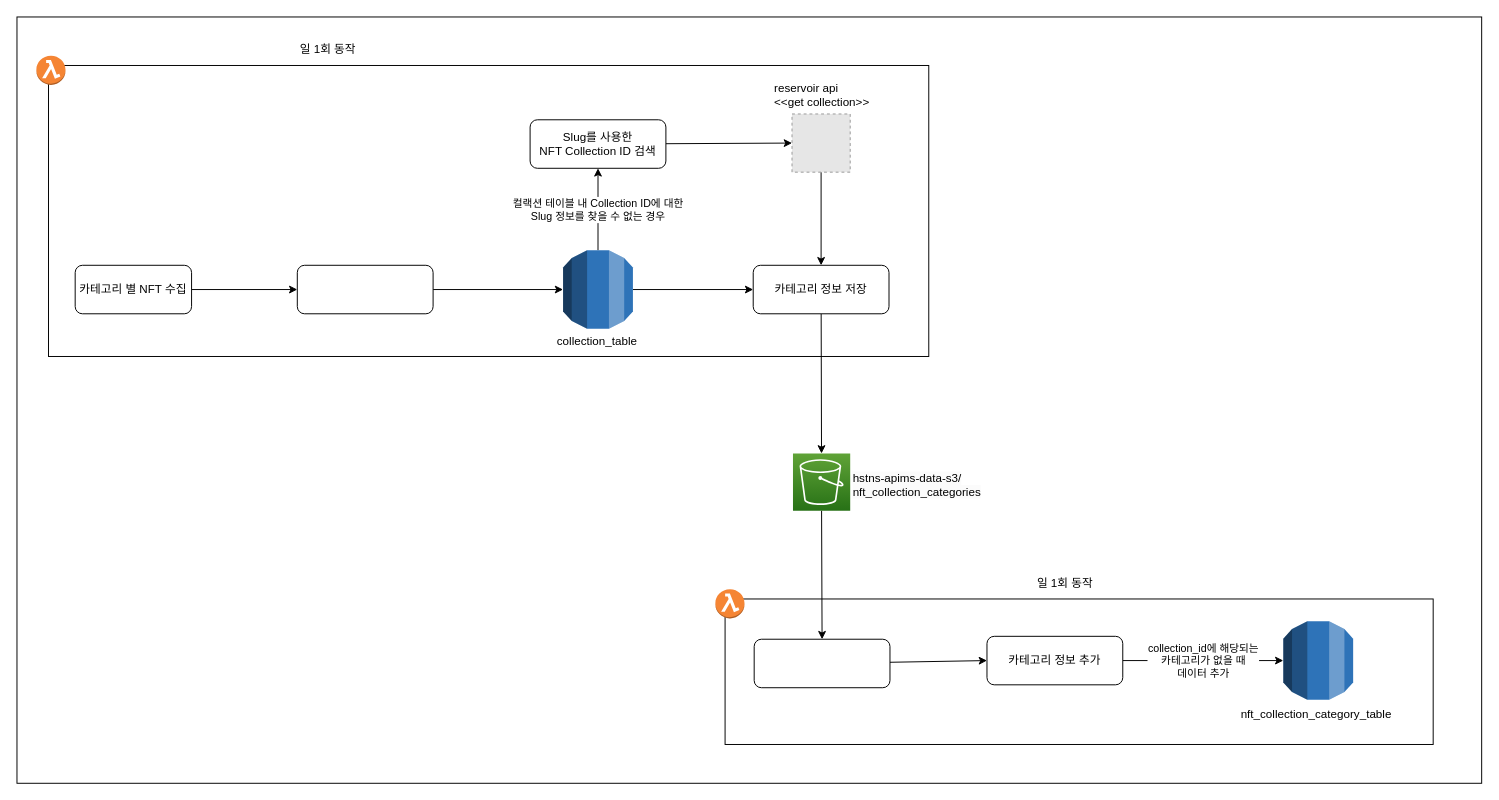
Image size: 1499x800. Some labels were removed from this diagram. Grey dashed boxes stand in for pictures. The box of each missing label's shape, as (x1, y1, x2, y2) in pixels:
수집된 정보 로드: (753, 638, 890, 688)
카테고리 별 NFT 정보 조회: (296, 264, 433, 314)
